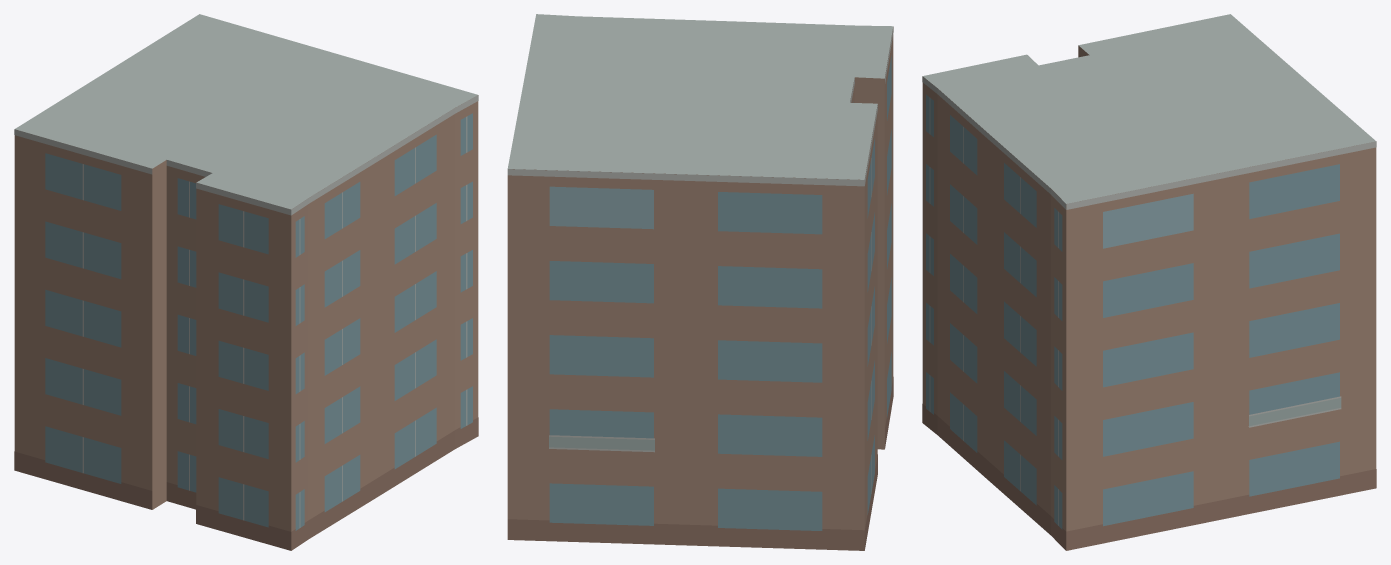
File: survey-upis-32960288.glb
The picture shows the model from 3 angles, left to right: view 1: azimuth 30°, elevation 25°; view 2: azimuth 150°, elevation 25°; view 3: azimuth 270°, elevation 25°; orthographic projection. The views are drawn at different scales.
Visible parts, largest first — view 1: survey-upis-32960288.tmp; view 2: survey-upis-32960288.tmp; view 3: survey-upis-32960288.tmp.
Boxes of the visible parts, box(x1,y1,x2,y2) form: survey-upis-32960288.tmp: box(14, 14, 478, 550); survey-upis-32960288.tmp: box(507, 14, 893, 550); survey-upis-32960288.tmp: box(922, 14, 1376, 550).
Bounding box in the file's own units: 16.46 × 14.01 × 16.62.
